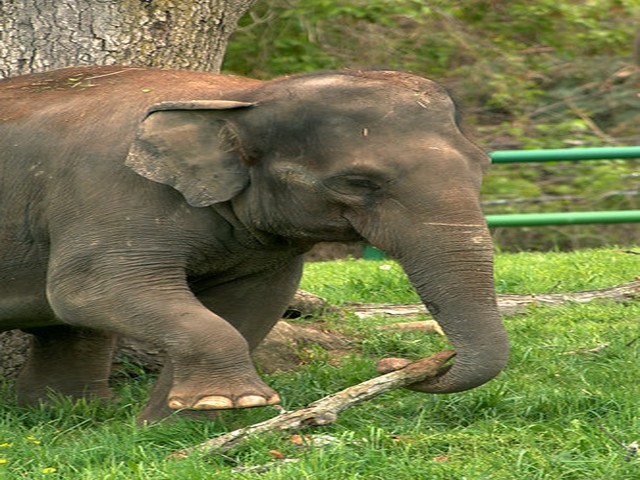Elephant: (1, 59, 521, 416)
